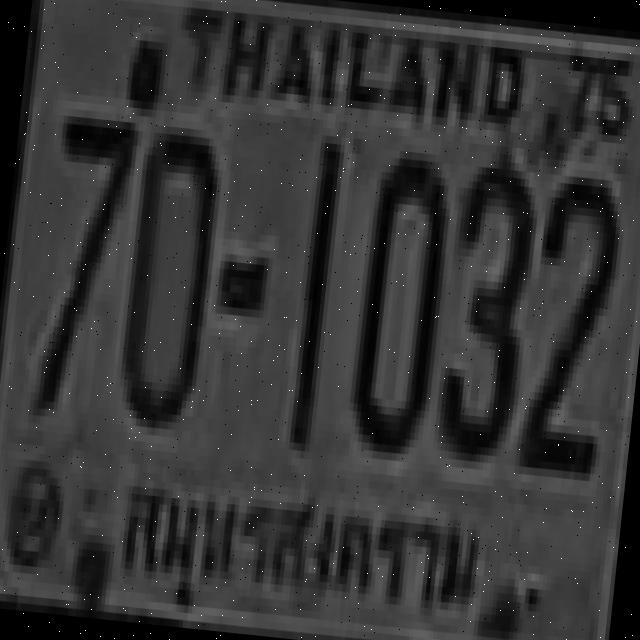0: (112, 116, 223, 424), (344, 144, 452, 452)
1: (285, 134, 341, 443)
2: (518, 166, 624, 466)
3: (432, 150, 535, 456)
7: (33, 108, 136, 414)
SamutSongkhram: (109, 457, 486, 618)
